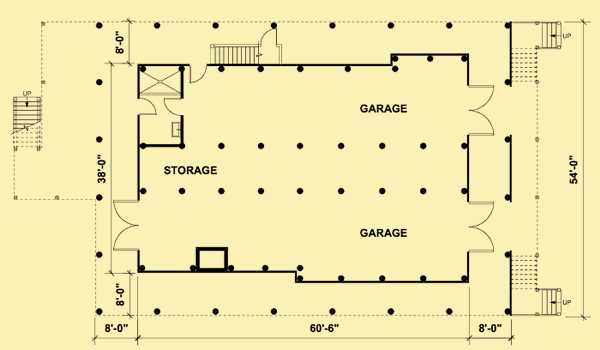door: (468, 83, 497, 139), (466, 197, 495, 253), (111, 195, 140, 251), (159, 97, 187, 117), (258, 26, 283, 47), (137, 94, 157, 119), (189, 63, 208, 85)
stairs: (511, 285, 573, 317), (511, 20, 571, 52), (12, 89, 43, 134), (208, 44, 260, 64)
